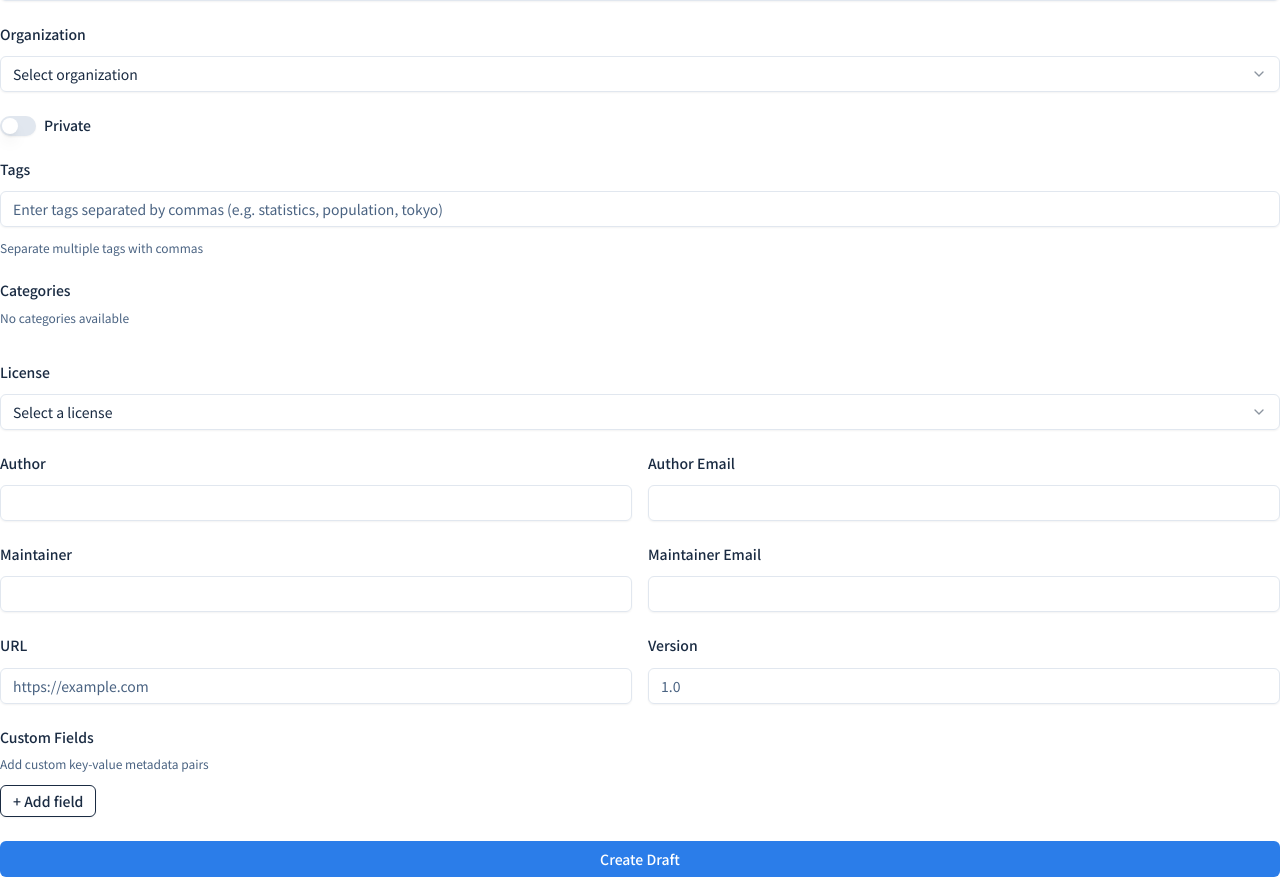
DatasetForm (draft flows) › create mode › should keep reporting busy after successful creation until unmount
(page scrolled)
Click the button "Create Draft". click: click(640, 859)
box: [0,841,1279,876]
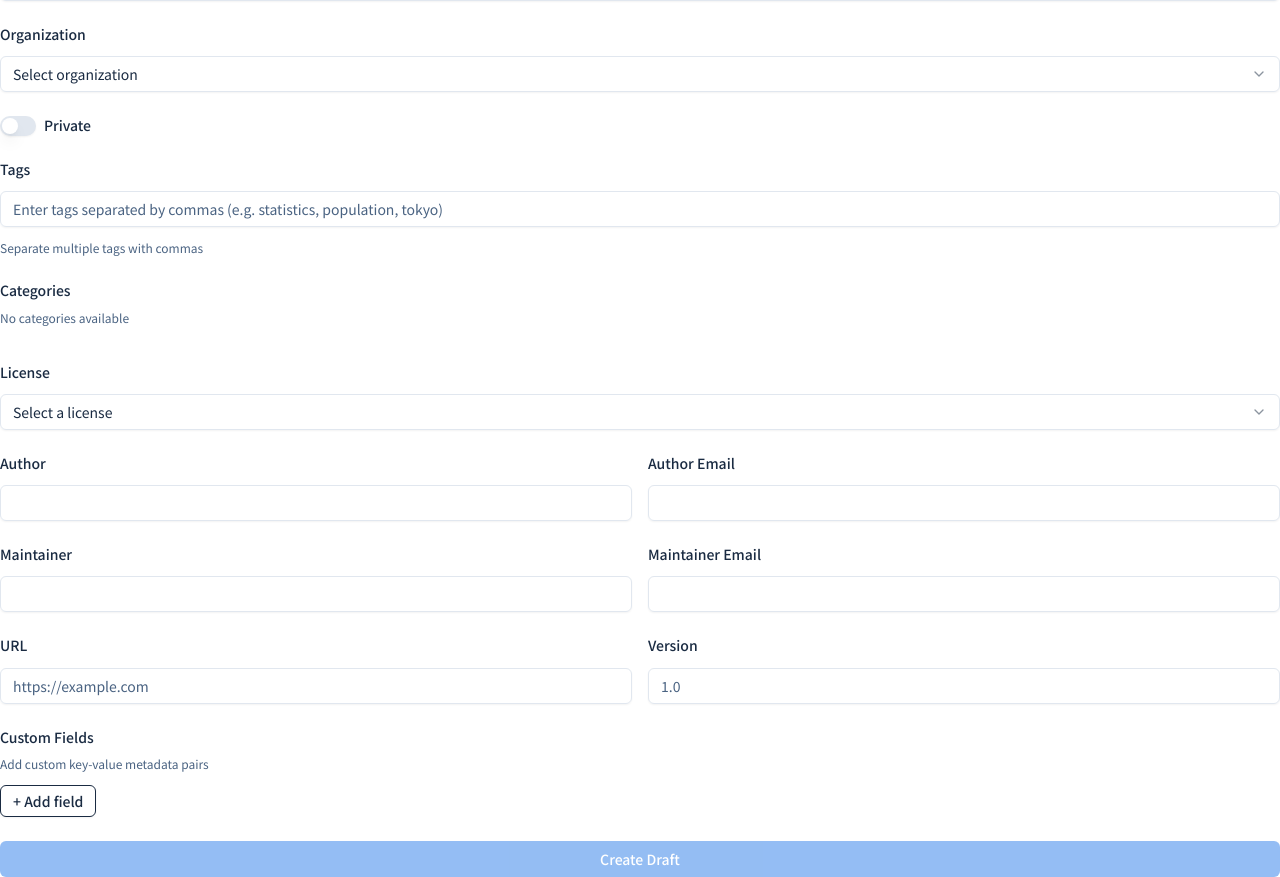
Expected: the button "Create Draft" is disabled, [0,841,1279,876]
